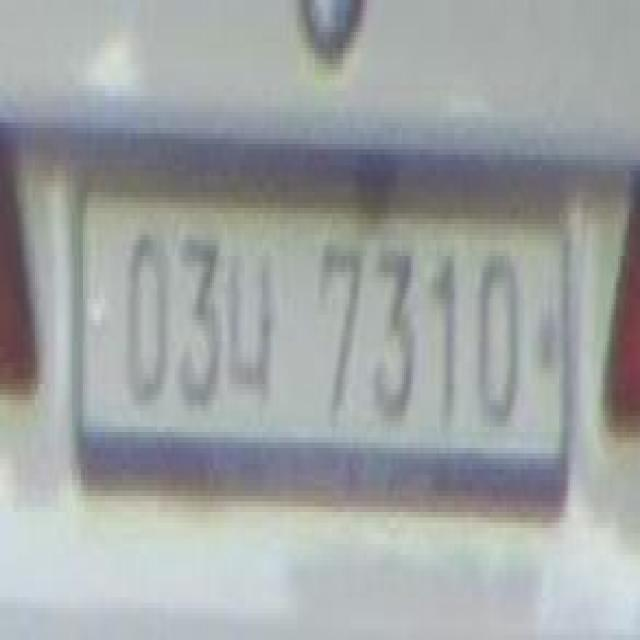illegal_plate: (76, 164, 577, 532)
